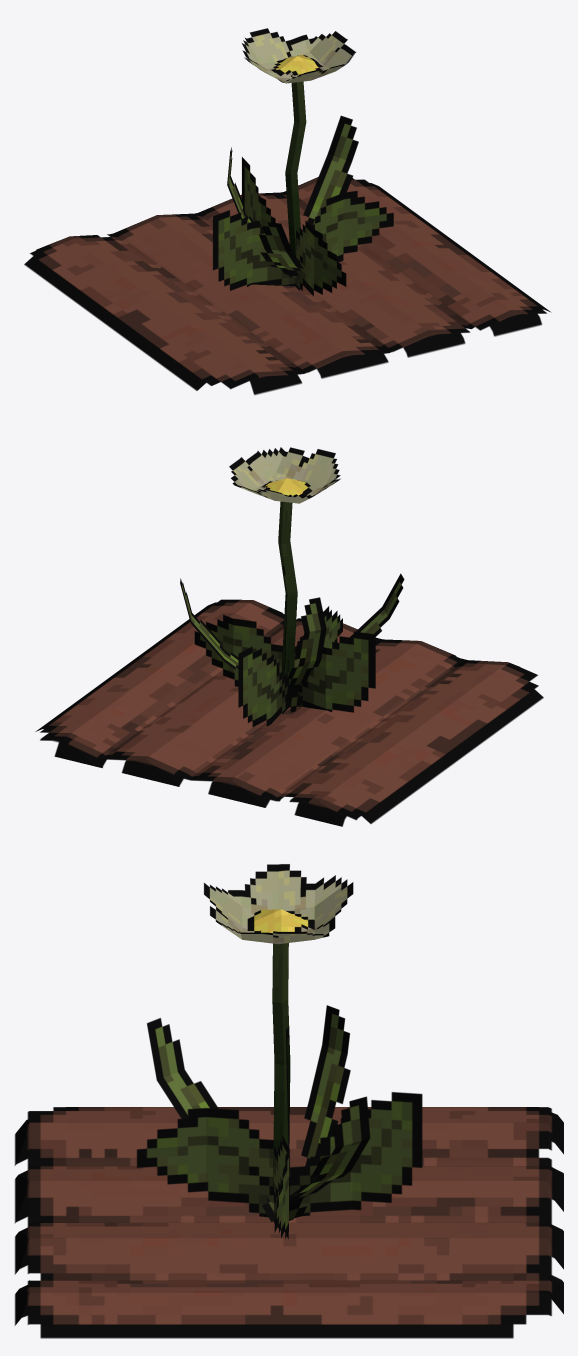
File: hand_painted_pixel_flowers.glb
The picture shows the model from 3 angles, top to bottom: view 1: azimuth 30°, elevation 25°; view 2: azimuth 150°, elevation 25°; view 3: azimuth 270°, elevation 25°; orthographic projection. The views are drawn at different scales.
Parts seen in each view (by area): view 1: Plane; view 2: Plane; view 3: Plane.
Boxes of the visible parts, bbox=[...] form: Plane: bbox=[24, 28, 551, 394]; Plane: bbox=[35, 447, 543, 826]; Plane: bbox=[15, 864, 563, 1338].
Size of the model in its own units: 0.5101 by 0.3535 by 0.5101.
Materials: 1 (1 with a texture image).
